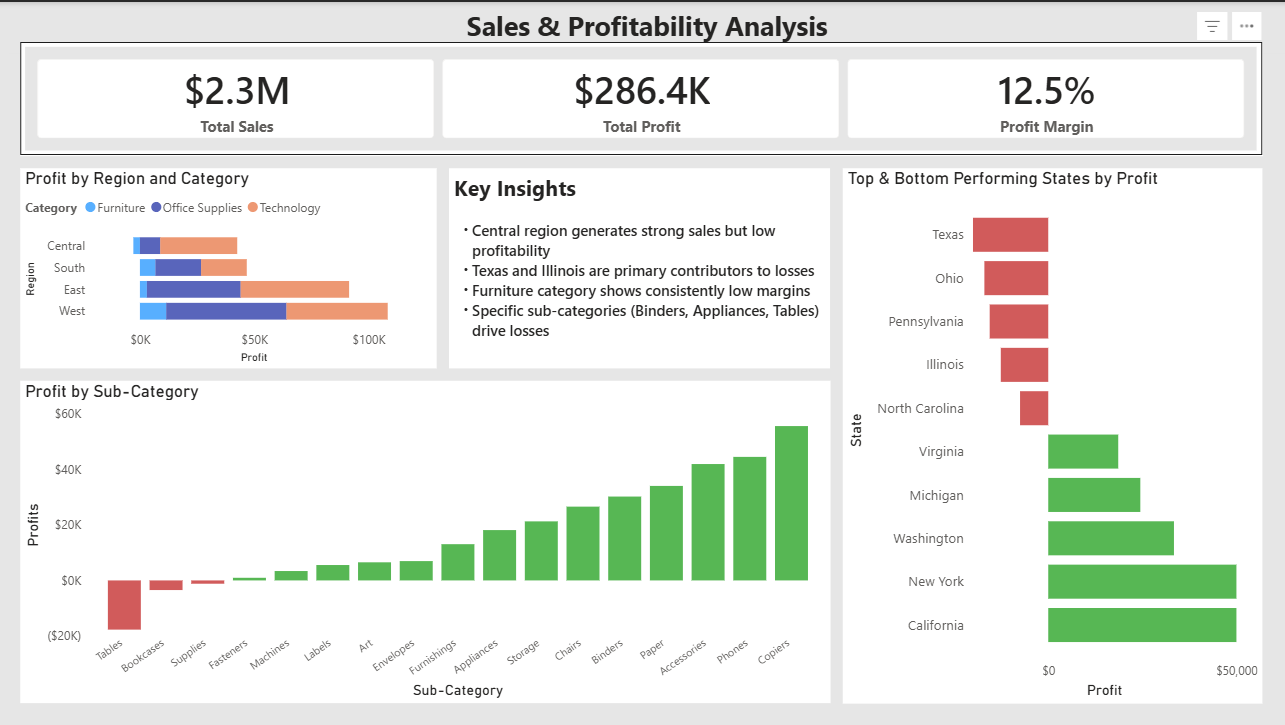

Layout of this report page (visuals, bound fields, positions):
{"tool":"powerbi","page":{"name":"Page 1","canvas":[1280,720],"ordinal":0},"visuals":[{"type":"textbox","box":[10,0,1270.1,51],"z":0},{"type":"cardVisual","fields":{"Data":["SampleSuperstore.Revenue","SampleSuperstore.Profits","SampleSuperstore.Profit Margins"]},"box":[21.1,39.8,1236.5,113.2],"z":1000},{"type":"barChart","fields":{"Y":["SampleSuperstore.Profits"],"Category":["SampleSuperstore.Region"],"Series":["SampleSuperstore.Category"]},"box":[21.1,165.4,414.2,199],"z":2000},{"type":"clusteredColumnChart","title":"Profit by Sub-Category","fields":{"Category":["SampleSuperstore.Sub-Category"],"Y":["SampleSuperstore.Profits"]},"box":[21.1,376.9,806.1,320.9],"z":3000},{"type":"clusteredBarChart","title":"Top & Bottom Performing States by Profit","fields":{"Category":["SampleSuperstore.State"],"Y":["SampleSuperstore.Profits"]},"box":[839.7,165.4,418,532.4],"z":4000},{"type":"textbox","box":[447.8,165.4,379.4,199],"z":5000}]}

Visuals, with their boxes in screenshot pixels (x1, y1, x2, y2), scaled from the page's 1280x720 canvas onto the 1285x725 screenshot:
textbox: <region>10, 0, 1284, 51</region>
cardVisual - SampleSuperstore.Revenue x SampleSuperstore.Profits: <region>21, 40, 1263, 154</region>
barChart - SampleSuperstore.Profits x SampleSuperstore.Region: <region>21, 167, 437, 367</region>
"Profit by Sub-Category" clusteredColumnChart: <region>21, 380, 830, 703</region>
"Top & Bottom Performing States by Profit" clusteredBarChart: <region>843, 167, 1263, 703</region>
textbox: <region>450, 167, 830, 367</region>
